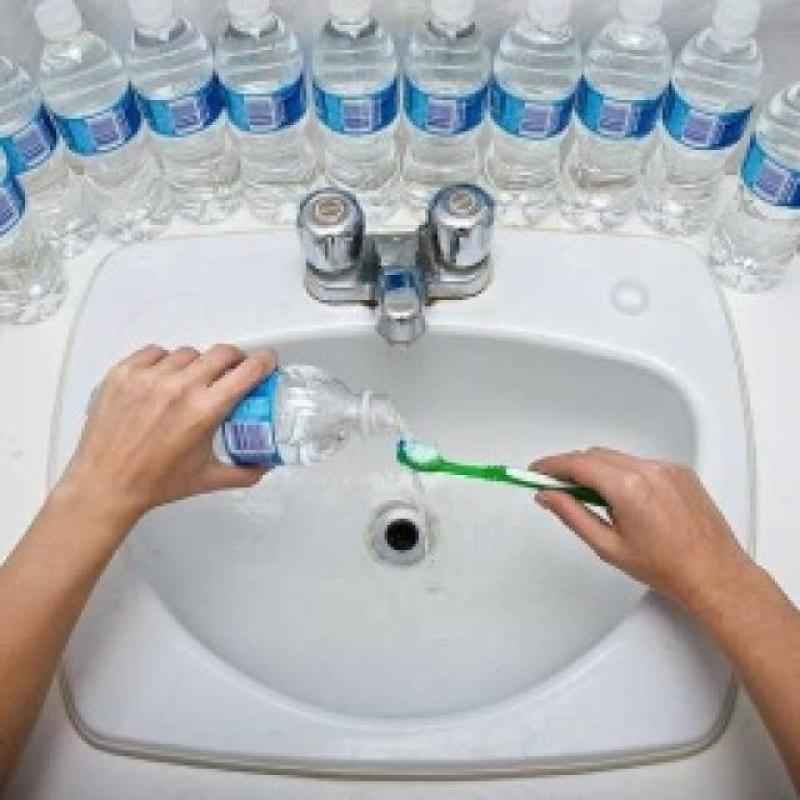botella: (33, 2, 174, 246), (139, 361, 399, 477), (642, 0, 768, 238), (561, 0, 674, 231), (122, 1, 238, 224), (308, 0, 408, 231), (400, 0, 498, 235), (214, 0, 310, 228), (0, 47, 94, 266), (490, 0, 578, 228), (712, 73, 800, 296), (0, 137, 56, 322)
